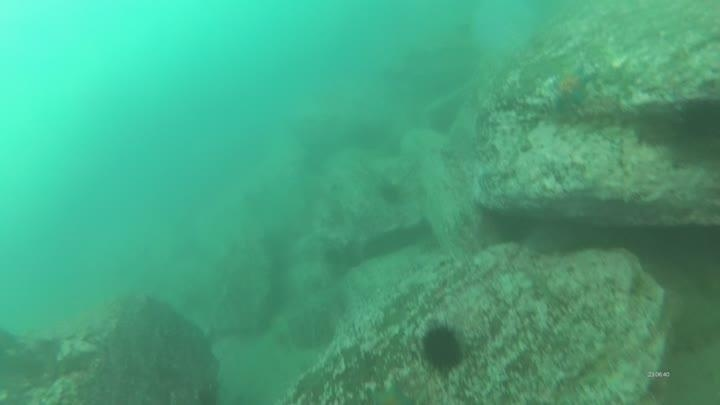echinus: (669, 93, 720, 166), (419, 321, 467, 374), (376, 179, 407, 209)
starfish: (548, 61, 597, 114), (365, 380, 414, 404)
